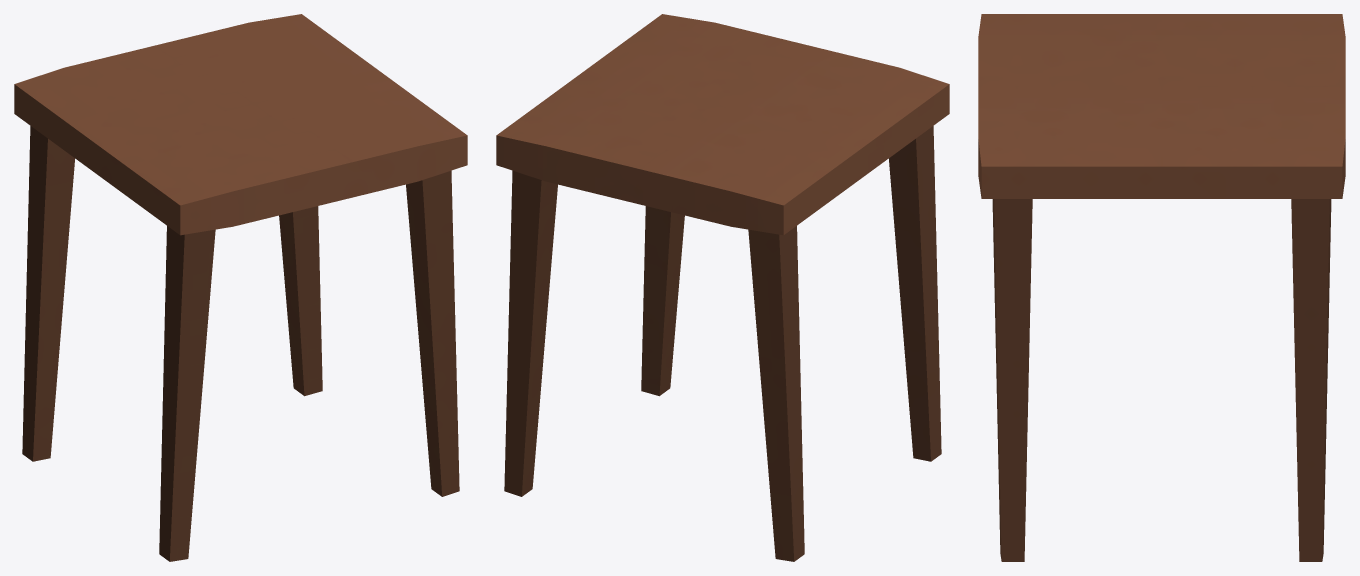
File: Chair_01_01.fbx
The picture shows the model from 3 angles, left to right: view 1: azimuth 30°, elevation 25°; view 2: azimuth 150°, elevation 25°; view 3: azimuth 270°, elevation 25°; orthographic projection. The views are drawn at different scales.
Parts seen in each view (by area): view 1: Chair_01_01; view 2: Chair_01_01; view 3: Chair_01_01.
Boxes of the visible parts, <box> form: Chair_01_01: <box>14,14,467,561</box>; Chair_01_01: <box>496,14,949,561</box>; Chair_01_01: <box>978,14,1345,561</box>.
Bounding box in the file's own units: 0.4836 × 0.5845 × 0.4882.
